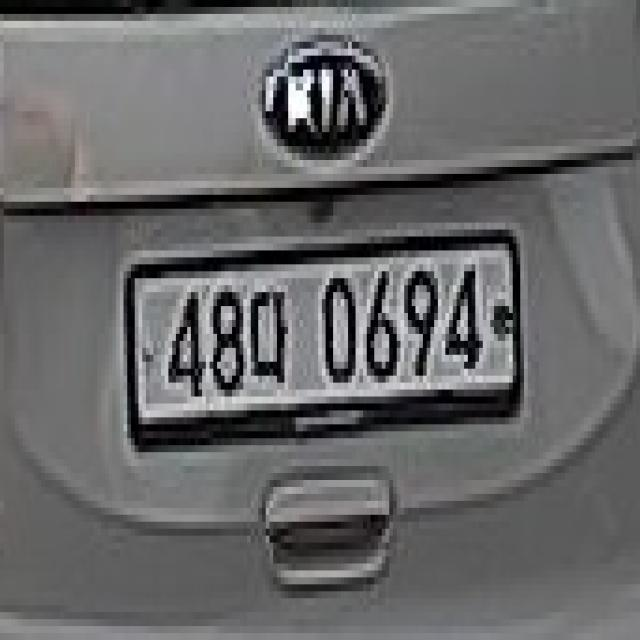0: (319, 274, 362, 404)
4: (444, 262, 486, 386), (165, 288, 208, 409)
6: (366, 270, 402, 400)
8: (209, 282, 248, 406)
9: (403, 266, 442, 394)
da: (249, 280, 294, 393)
license_plate: (117, 212, 537, 491)
